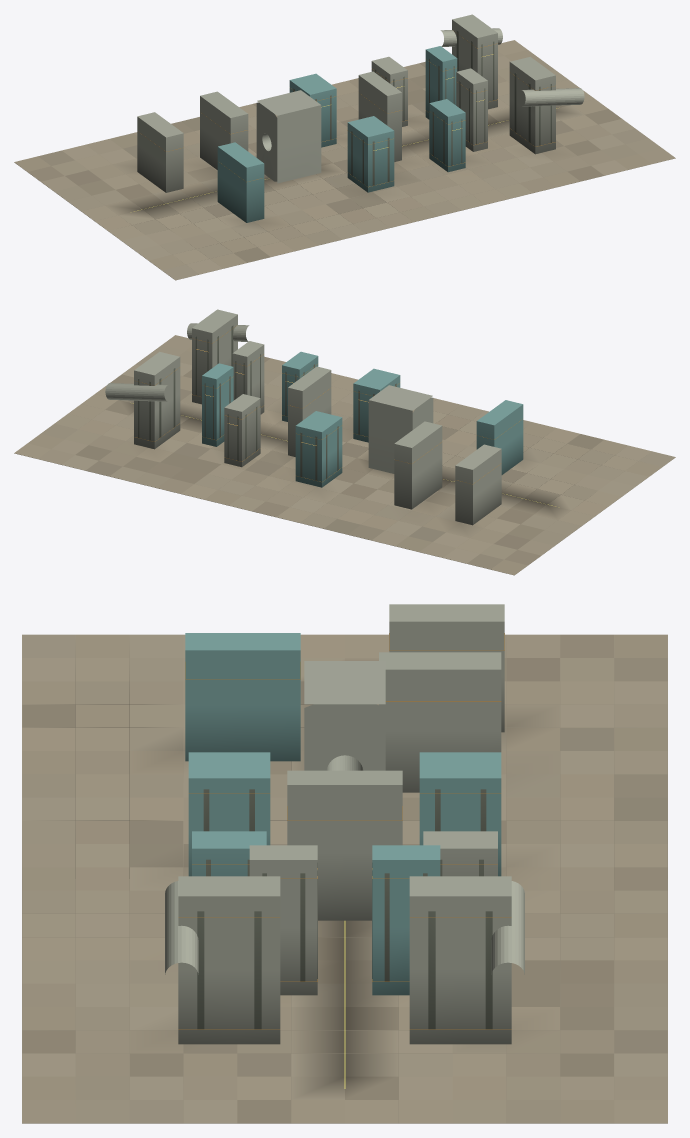
The model's file is 01_world.glb.
3 views of the same model, one above another, from view 1: azimuth 30°, elevation 25°; view 2: azimuth 150°, elevation 25°; view 3: azimuth 270°, elevation 25° (orthographic). The views are drawn at different scales.
Parts seen in each view (by area): view 1: world_01_floor_noshadow_nocol, world_11_floor_noshadow_nocol, world_00_body_nocol, world_00_floor_noshadow_nocol, world_11_body_nocol, world_01_foam_nocol, world_10_floor_noshadow_nocol, world_10_body_nocol, world_11_foam_nocol, world_10_foam_nocol, world_00_foam_nocol, world_11_panel_noshadow_nocol (+2 smaller); view 2: world_10_floor_noshadow_nocol, world_00_floor_noshadow_nocol, world_01_floor_noshadow_nocol, world_00_body_nocol, world_11_body_nocol, world_10_body_nocol, world_11_floor_noshadow_nocol, world_01_foam_nocol, world_00_foam_nocol, world_10_foam_nocol, world_10_panel_noshadow_nocol, world_11_foam_nocol (+2 smaller); view 3: world_10_floor_noshadow_nocol, world_11_floor_noshadow_nocol, world_01_floor_noshadow_nocol, world_00_floor_noshadow_nocol, world_11_body_nocol, world_00_body_nocol, world_01_foam_nocol, world_10_body_nocol, world_00_foam_nocol, world_10_foam_nocol, world_11_foam_nocol, world_10_panel_noshadow_nocol (+1 smaller).
Part boxes in pixels (box(x1,y1,x2,y2)): world_01_floor_noshadow_nocol: box(95, 163, 425, 280); world_11_floor_noshadow_nocol: box(333, 99, 675, 221); world_00_body_nocol: box(137, 90, 321, 192); world_00_floor_noshadow_nocol: box(14, 104, 332, 221); world_11_body_nocol: box(358, 56, 584, 161); world_01_foam_nocol: box(217, 116, 394, 222); world_10_floor_noshadow_nocol: box(253, 40, 594, 162); world_10_body_nocol: box(371, 14, 502, 126); world_11_foam_nocol: box(429, 99, 465, 172); world_10_foam_nocol: box(425, 46, 457, 119); world_00_foam_nocol: box(289, 73, 336, 147); world_11_panel_noshadow_nocol: box(432, 73, 551, 165); world_10_floor_noshadow_nocol: box(14, 394, 356, 516); world_00_floor_noshadow_nocol: box(264, 458, 594, 575); world_01_floor_noshadow_nocol: box(357, 399, 675, 516); world_00_body_nocol: box(368, 385, 501, 525); world_11_body_nocol: box(187, 309, 331, 456); world_10_body_nocol: box(105, 351, 260, 467); world_11_floor_noshadow_nocol: box(95, 335, 436, 457); world_01_foam_nocol: box(353, 368, 523, 474); world_00_foam_nocol: box(295, 411, 342, 487); world_10_foam_nocol: box(202, 363, 233, 446); world_10_panel_noshadow_nocol: box(138, 368, 257, 460); world_11_foam_nocol: box(282, 351, 318, 421); world_10_floor_noshadow_nocol: box(345, 867, 667, 1123); world_11_floor_noshadow_nocol: box(22, 867, 344, 1123); world_01_floor_noshadow_nocol: box(22, 634, 344, 878); world_00_floor_noshadow_nocol: box(345, 634, 667, 878); world_11_body_nocol: box(165, 770, 402, 1044); world_00_body_nocol: box(304, 604, 504, 792); world_01_foam_nocol: box(185, 633, 300, 876); world_10_body_nocol: box(409, 831, 524, 1044); world_00_foam_nocol: box(419, 752, 501, 876); world_10_foam_nocol: box(372, 845, 440, 995); world_11_foam_nocol: box(192, 831, 266, 876); world_10_panel_noshadow_nocol: box(372, 859, 492, 1029).
Bounding box in the file's own units: 340 × 48.12 × 190.
